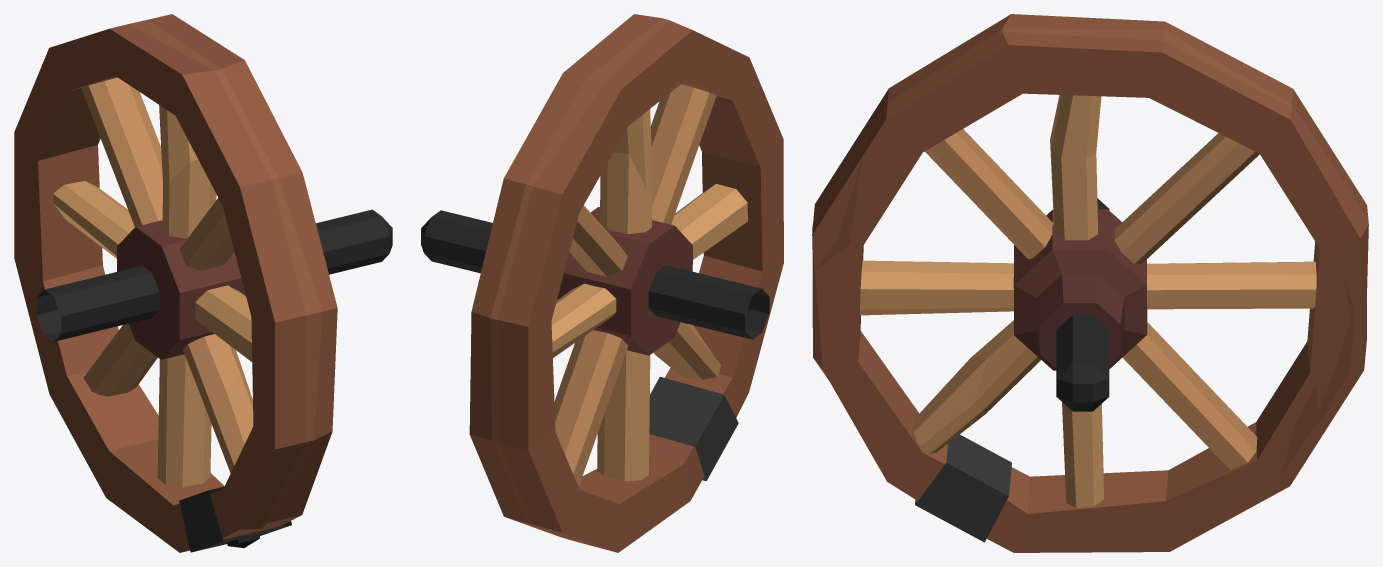
Rendered from wheel.fbx.
3 renders of one model, left to right at view 1: azimuth 30°, elevation 25°; view 2: azimuth 150°, elevation 25°; view 3: azimuth 270°, elevation 25°, orthographic. The views are drawn at different scales.
Parts seen in each view (by area): view 1: wheel; view 2: wheel; view 3: wheel.
Part boxes in pixels (x1,y1,x2,y2): wheel: (14, 14, 392, 552); wheel: (421, 14, 783, 552); wheel: (812, 14, 1368, 552).
Bounding box in the file's own units: 0.9061 × 1.23 × 1.22.
